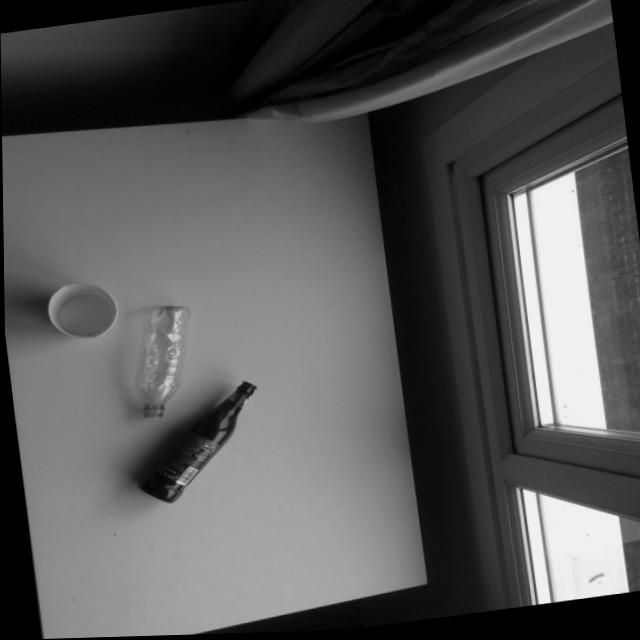Bottle-Glass: (121, 372, 277, 511)
Paper: (33, 269, 129, 354)
Plastic: (120, 298, 208, 429)
